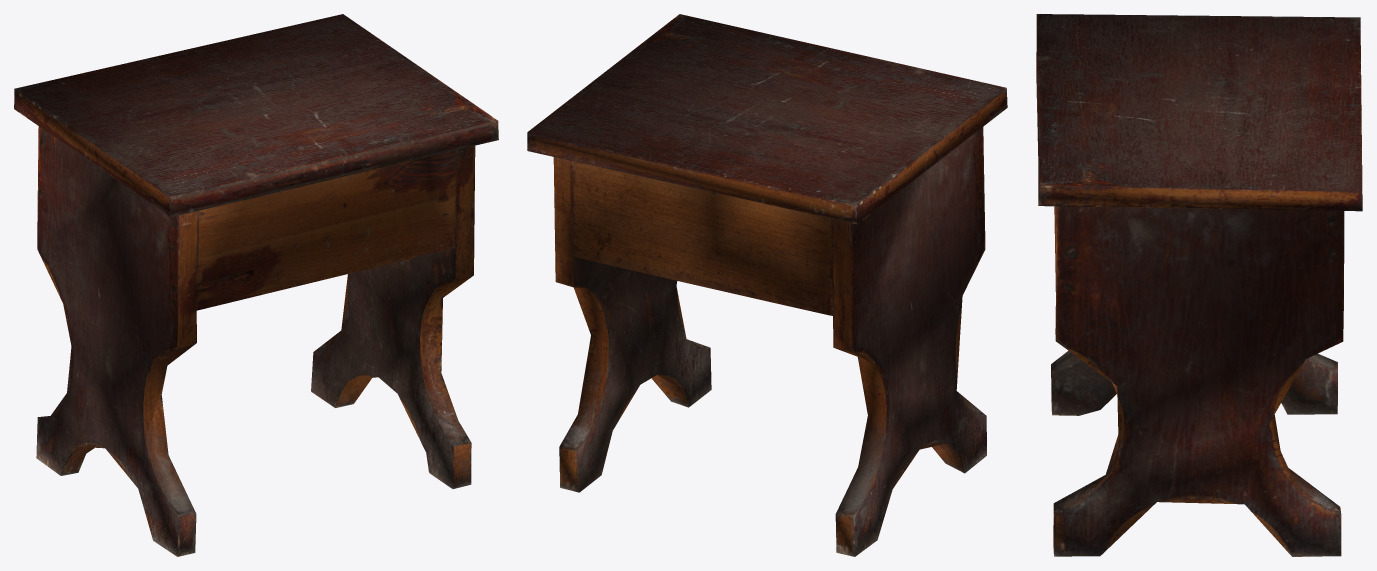
File: old_wooden_stool_ukopadbaw_low.glb
3 views of the same model, side by side, from view 1: azimuth 30°, elevation 25°; view 2: azimuth 150°, elevation 25°; view 3: azimuth 270°, elevation 25° (orthographic). The views are drawn at different scales.
Visible parts, largest first — view 1: ukopadbaw_LOD0_TIER3_000; view 2: ukopadbaw_LOD0_TIER3_000; view 3: ukopadbaw_LOD0_TIER3_000.
Part boxes in pixels (bbox=[...]): ukopadbaw_LOD0_TIER3_000: bbox=[14, 14, 498, 556]; ukopadbaw_LOD0_TIER3_000: bbox=[527, 14, 1007, 556]; ukopadbaw_LOD0_TIER3_000: bbox=[1036, 14, 1362, 556].
Bounding box in the file's own units: 0.3115 × 0.333 × 0.254.
1 material, 1 textured.
